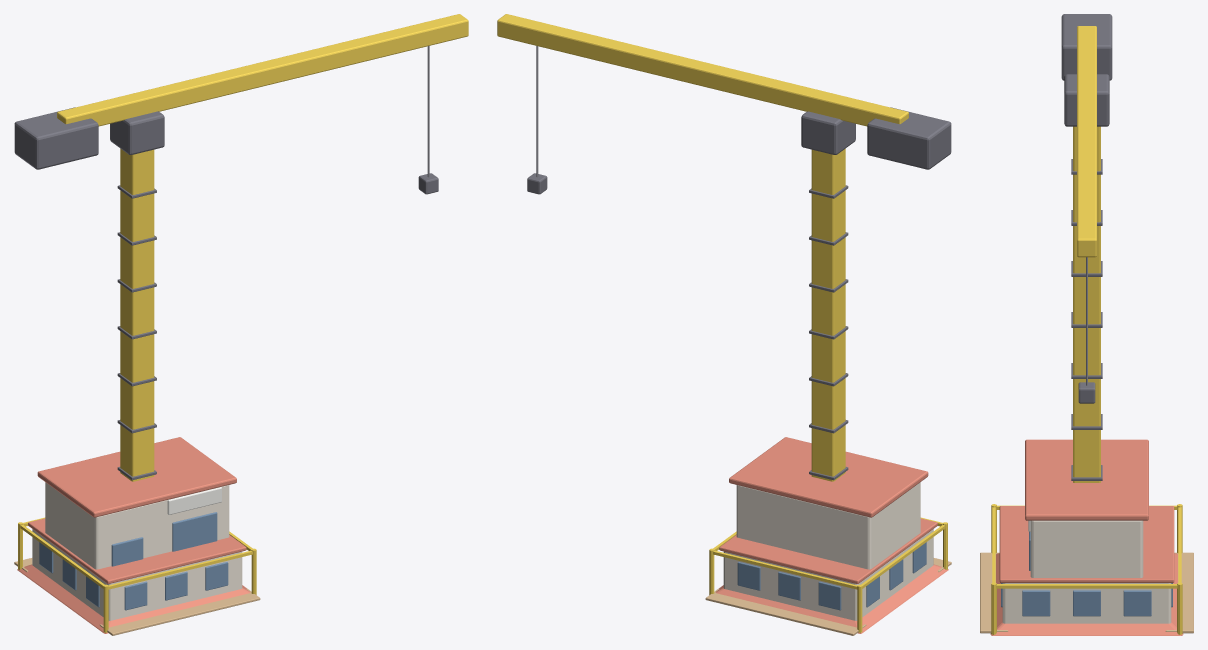
File: site-kit.glb
3 views of the same model, side by side, from view 1: azimuth 30°, elevation 25°; view 2: azimuth 150°, elevation 25°; view 3: azimuth 270°, elevation 25° (orthographic). The views are drawn at different scales.
Parts seen in each view (by area): view 1: crane, site_office, floor_module, scaffold_module, roof; view 2: crane, site_office, floor_module, scaffold_module, roof; view 3: crane, site_office, floor_module, scaffold_module, roof.
Boxes of the visible parts, x1,y1,x2,y2 form: crane: [14, 14, 468, 481]; site_office: [37, 437, 236, 569]; floor_module: [28, 518, 246, 620]; scaffold_module: [14, 517, 260, 635]; roof: [17, 564, 250, 633]; crane: [497, 14, 951, 481]; site_office: [729, 437, 928, 569]; floor_module: [719, 518, 937, 620]; scaffold_module: [705, 517, 951, 635]; roof: [715, 564, 948, 633]; crane: [1061, 14, 1112, 482]; site_office: [1025, 439, 1148, 577]; floor_module: [999, 506, 1174, 623]; scaffold_module: [980, 504, 1193, 634]; roof: [990, 553, 1183, 635].
Bounding box in the file's own units: 9.8 × 10.38 × 3.8.
